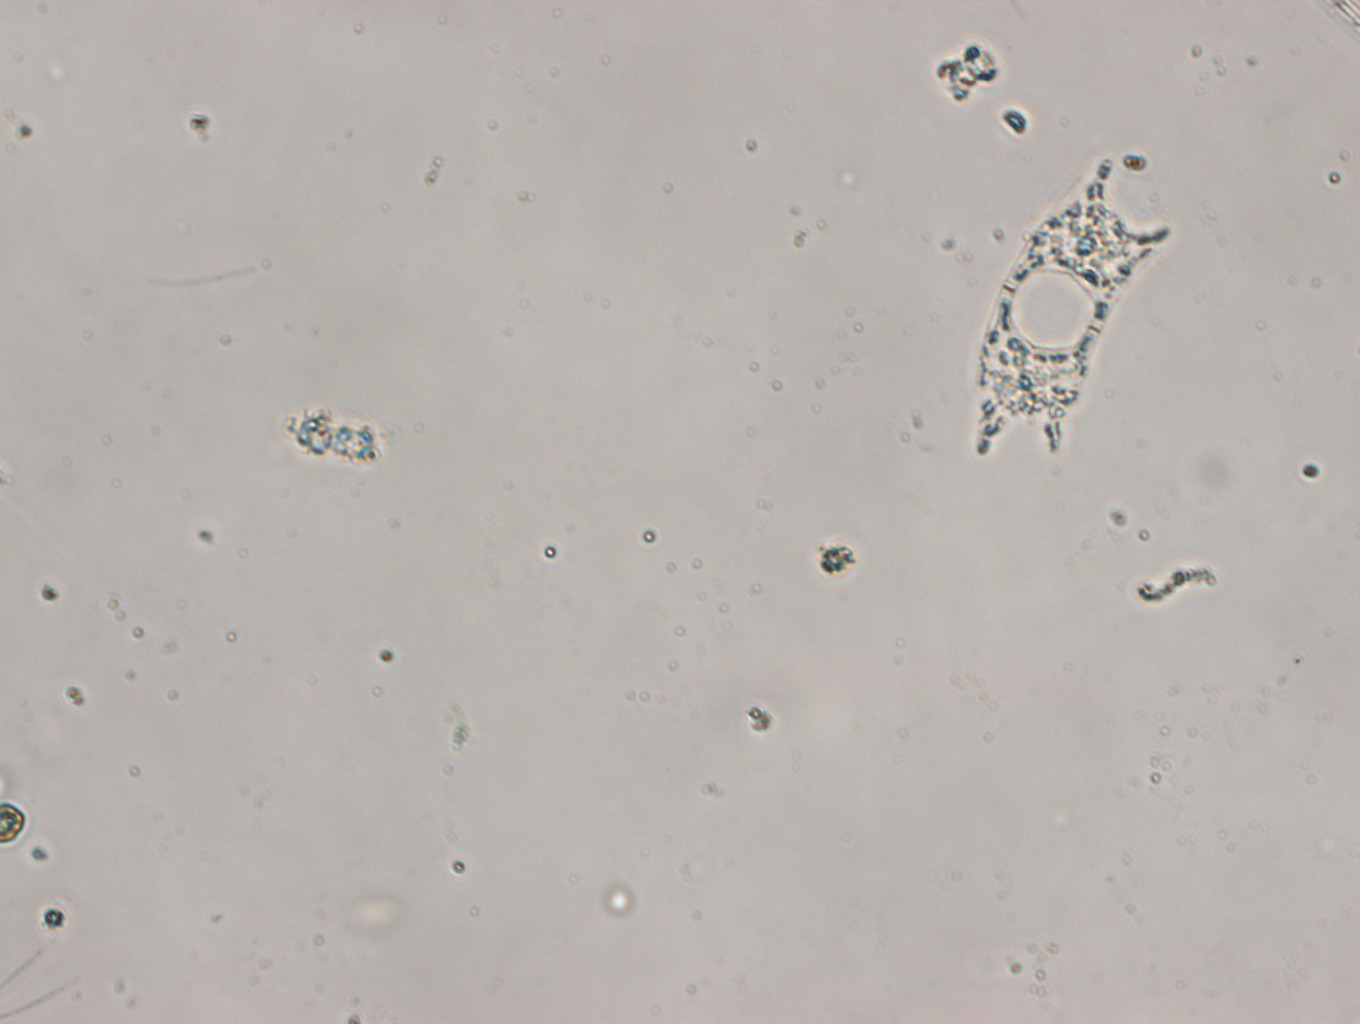eucampia: (958, 142, 1169, 479)
